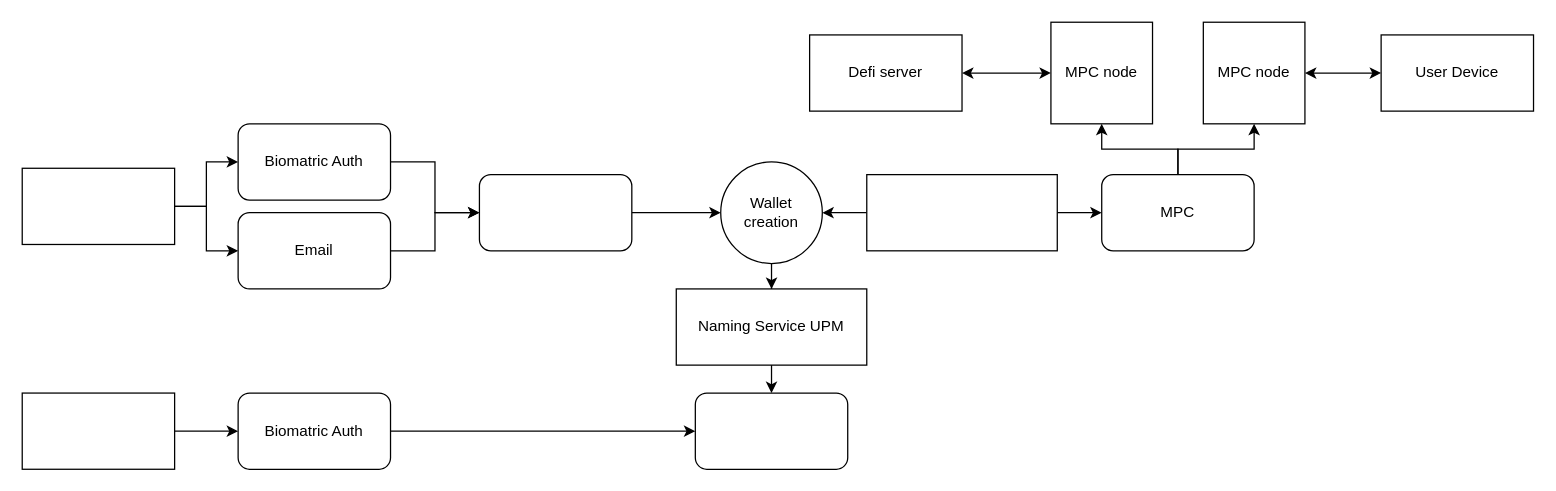
The diagram is 1556 pixels wide and 491 high, and some of its shapes have lost their labels. The centre of each missing label's shape, as x and y in pixels:
"Account Abstraction" belongs at (961,212).
"Login" belongs at (98,430).
"Onboarding" belongs at (98,205).
"OTP" belongs at (555,212).
"Wallet / Account" belongs at (771,430).
